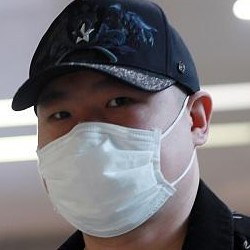mask: (20, 109, 183, 234)
